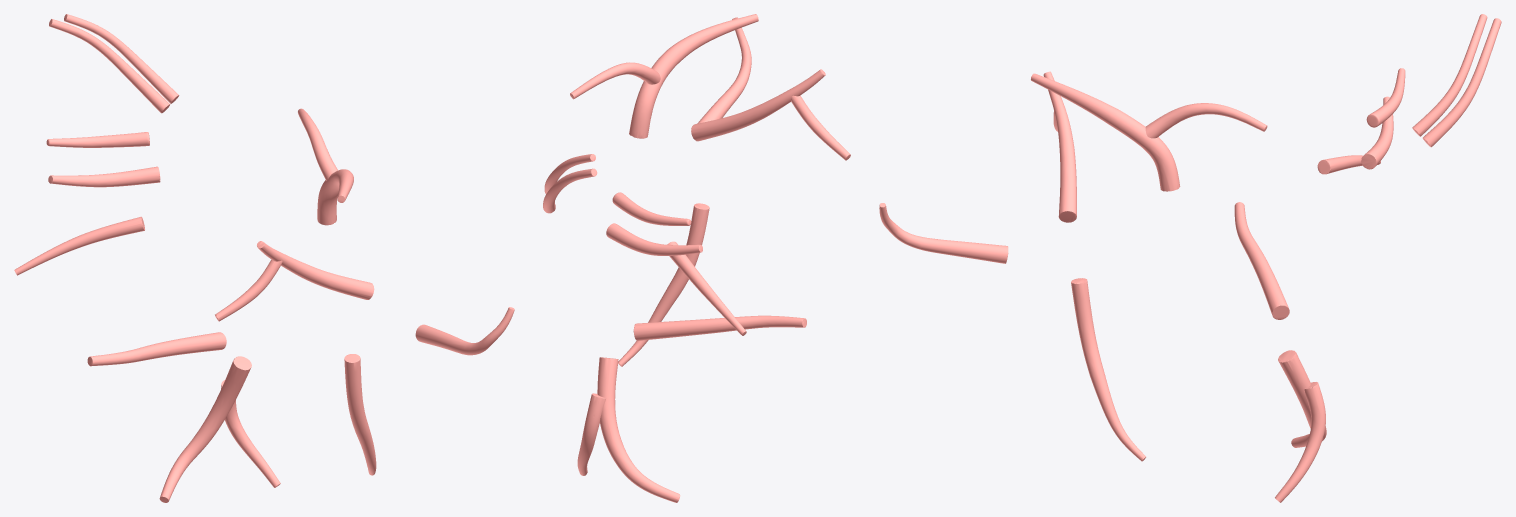
Rendered from right_lung.glb.
3 views of the same model, side by side, from view 1: azimuth 30°, elevation 25°; view 2: azimuth 150°, elevation 25°; view 3: azimuth 270°, elevation 25° (orthographic). The views are drawn at different scales.
Visible parts, largest first — view 1: grp1_2, grp1_1, grp1_4, grp1_3, grp1_8, grp1_10, grp1_5, grp1_9, grp1_7, grp1, grp1_12, grp1_6 (+2 smaller); view 2: grp1, grp1_2, grp1_1, grp1_4, grp1_3, grp1_5, grp1_9, grp1_8, grp1_6, grp1_11, grp1_12, grp1_13 (+2 smaller); view 3: grp1, grp1_3, grp1_4, grp1_5, grp1_1, grp1_6, grp1_10, grp1_11, grp1_7, grp1_2, grp1_9, grp1_12.
Part boxes in pixels (left/top/right/bottom): grp1_2: left=159, top=356, right=251, bottom=502; grp1_1: left=87, top=332, right=226, bottom=366; grp1_4: left=257, top=241, right=374, bottom=299; grp1_3: left=344, top=354, right=376, bottom=475; grp1_8: left=14, top=216, right=144, bottom=275; grp1_10: left=49, top=19, right=170, bottom=113; grp1_5: left=415, top=307, right=514, bottom=355; grp1_9: left=48, top=166, right=160, bottom=187; grp1_7: left=64, top=14, right=179, bottom=103; grp1: left=317, top=169, right=353, bottom=225; grp1_12: left=46, top=132, right=149, bottom=147; grp1_6: left=221, top=380, right=280, bottom=487; grp1: left=629, top=14, right=758, bottom=138; grp1_2: left=597, top=357, right=680, bottom=502; grp1_1: left=633, top=315, right=806, bottom=340; grp1_4: left=691, top=69, right=825, bottom=141; grp1_3: left=618, top=203, right=709, bottom=366; grp1_5: left=697, top=17, right=751, bottom=123; grp1_9: left=606, top=223, right=702, bottom=255; grp1_8: left=667, top=241, right=746, bottom=335; grp1_6: left=577, top=393, right=606, bottom=475; grp1_11: left=570, top=62, right=660, bottom=99; grp1_12: left=612, top=192, right=691, bottom=225; grp1_13: left=791, top=95, right=850, bottom=160; grp1: left=1031, top=73, right=1180, bottom=191; grp1_3: left=1071, top=278, right=1145, bottom=461; grp1_4: left=1043, top=71, right=1076, bottom=222; grp1_5: left=879, top=203, right=1008, bottom=263; grp1_1: left=1234, top=202, right=1289, bottom=319; grp1_6: left=1275, top=382, right=1325, bottom=502; grp1_10: left=1422, top=18, right=1501, bottom=147; grp1_11: left=1145, top=103, right=1267, bottom=138; grp1_7: left=1412, top=14, right=1487, bottom=136; grp1_2: left=1278, top=350, right=1326, bottom=447; grp1_9: left=1361, top=96, right=1393, bottom=169; grp1_12: left=1366, top=68, right=1405, bottom=127.
Size of the model in its own units: 91.33 by 145 by 188.
